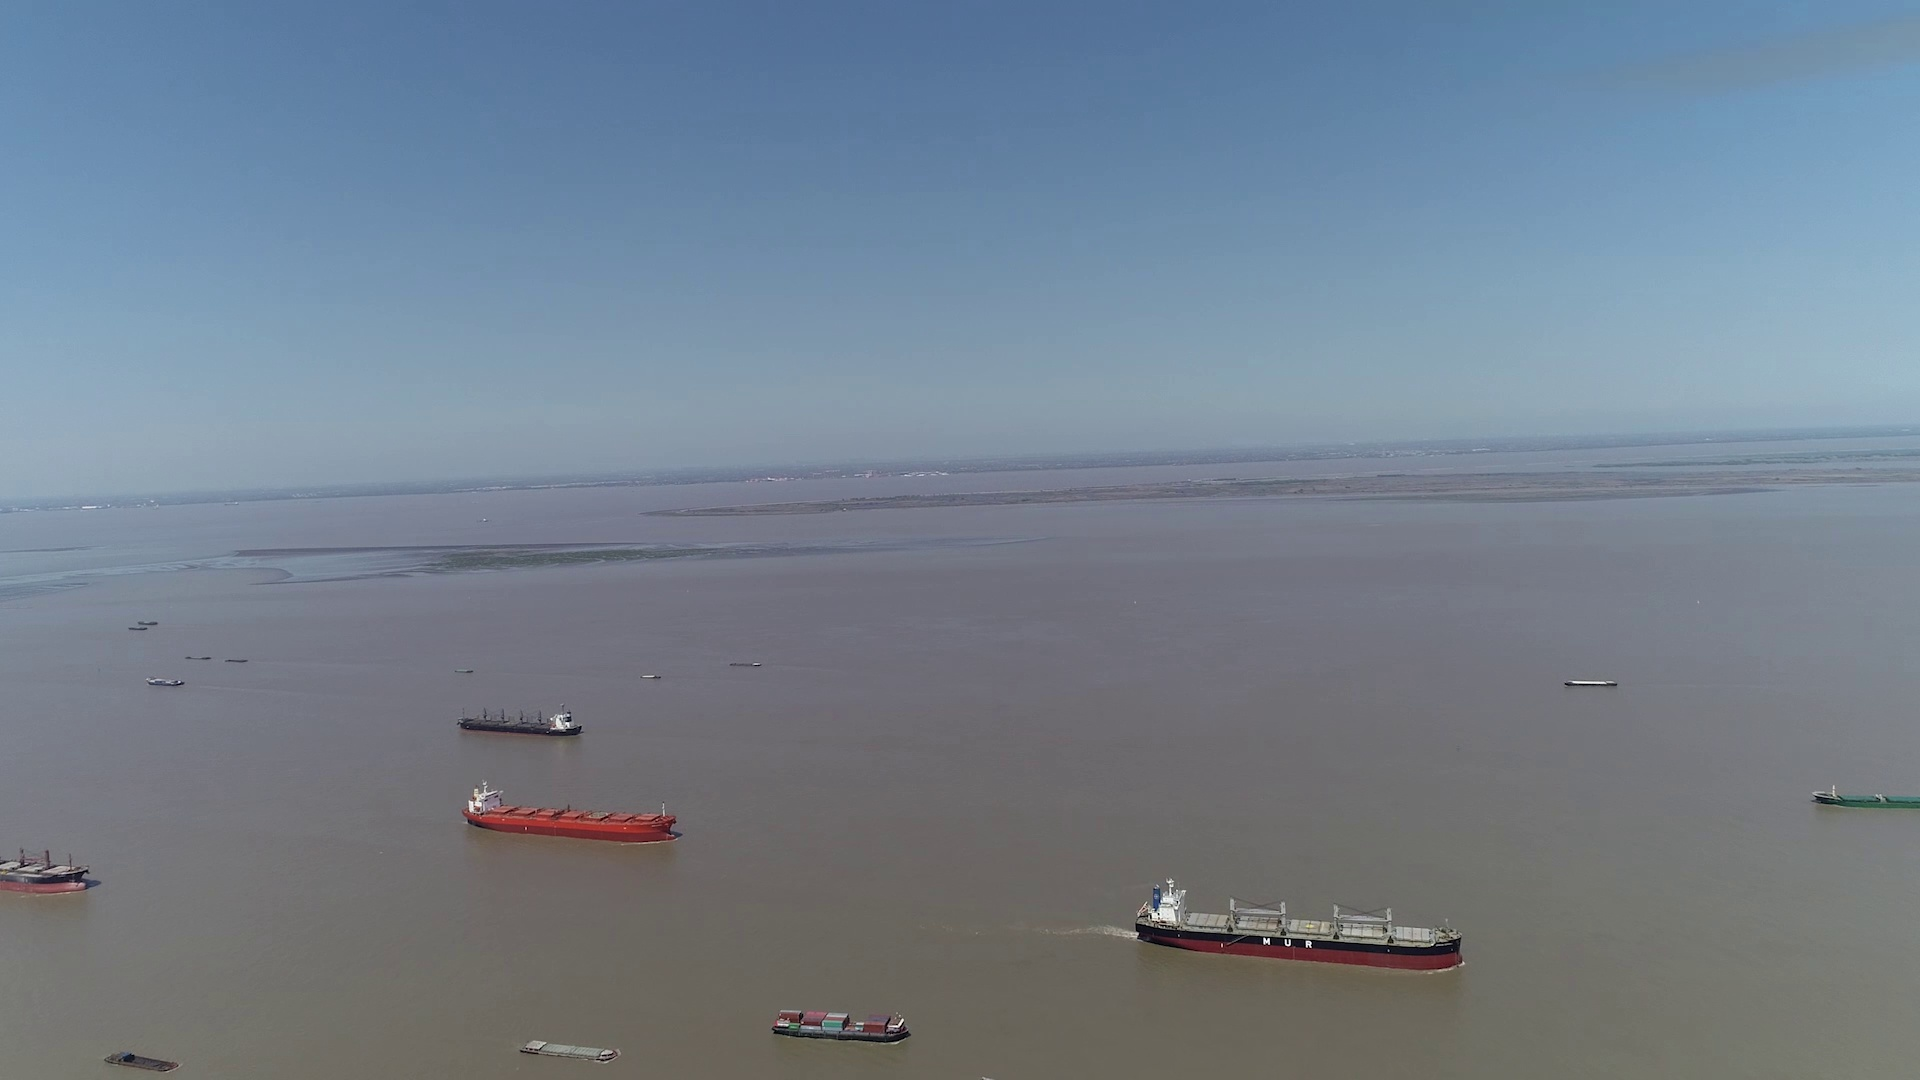ship: (1135, 878, 1462, 971), (465, 779, 676, 845), (0, 835, 94, 897), (771, 1007, 909, 1043), (458, 705, 582, 737), (1812, 787, 1920, 811), (517, 1038, 622, 1062), (105, 1050, 177, 1072), (1565, 678, 1615, 687), (148, 676, 186, 687)
